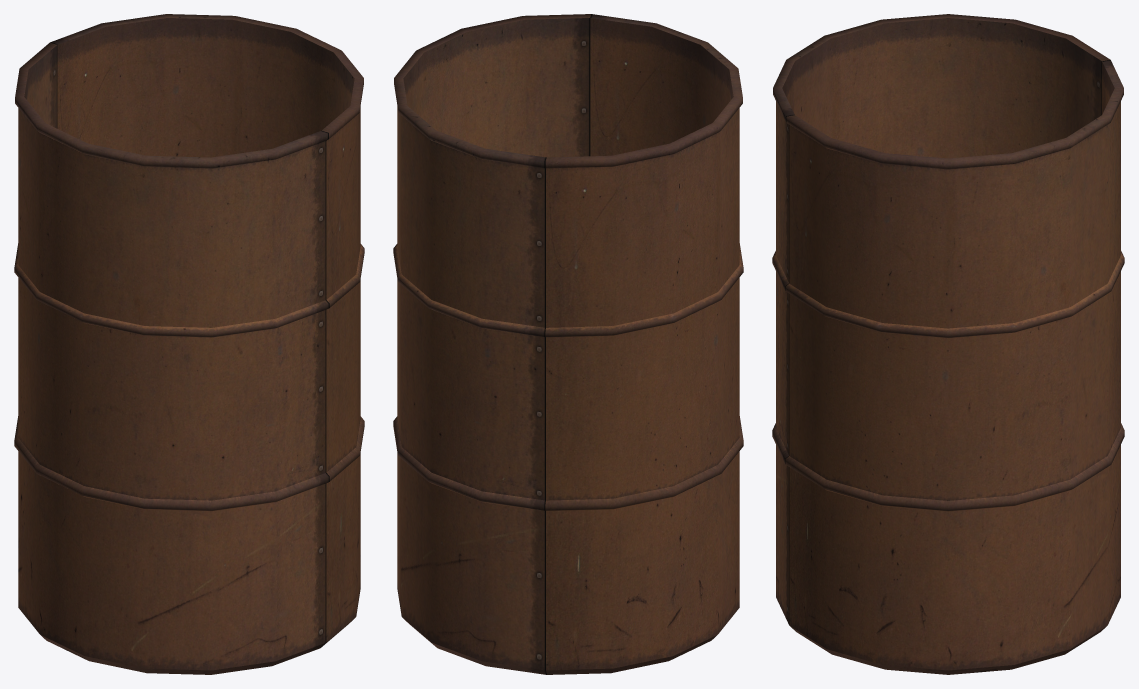
File: barrelnotop.FBX
3 renders of one model, left to right at view 1: azimuth 30°, elevation 25°; view 2: azimuth 150°, elevation 25°; view 3: azimuth 270°, elevation 25°, orthographic.
Parts seen in each view (by area): view 1: barrel; view 2: barrel; view 3: barrel.
Part boxes in pixels (bbox=[...]): barrel: bbox=[14, 14, 364, 674]; barrel: bbox=[393, 14, 743, 674]; barrel: bbox=[772, 14, 1124, 674].
Bounding box in the file's own units: 57.23 × 92.6 × 57.23.
